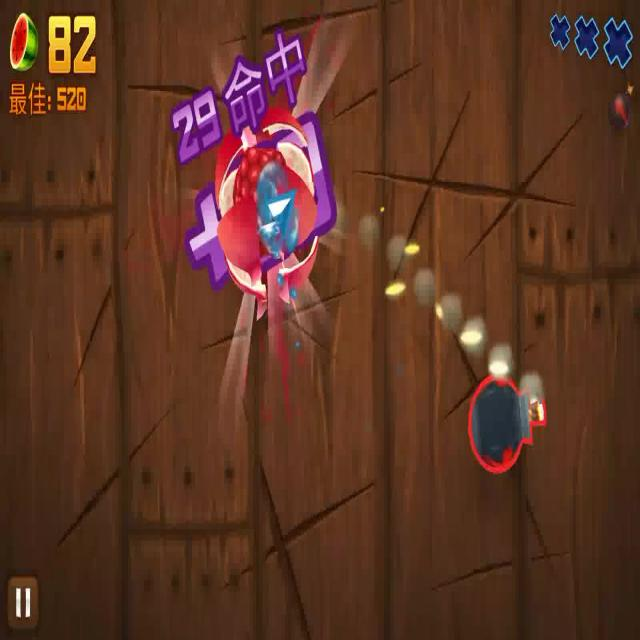bomb: (458, 339, 550, 469)
fruit: (205, 116, 329, 305)
